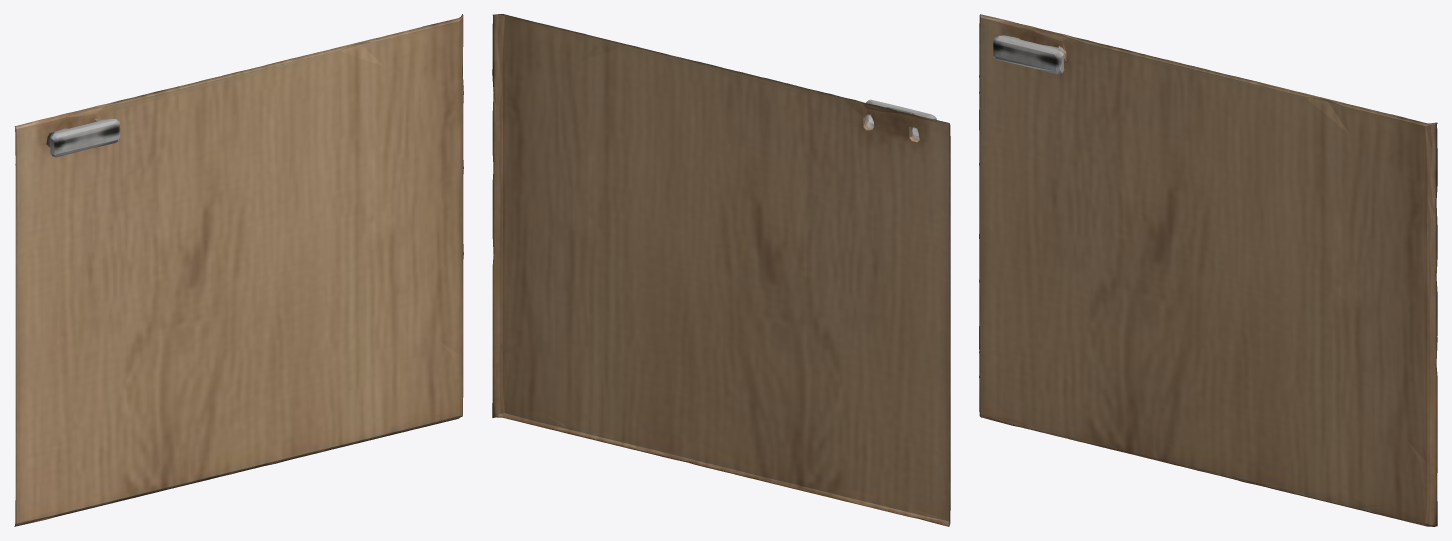
Rendered from door_right.glb.
The picture shows the model from 3 angles, left to right: view 1: azimuth 30°, elevation 25°; view 2: azimuth 150°, elevation 25°; view 3: azimuth 330°, elevation 25°; orthographic projection.
Parts seen in each view (by area): view 1: source_surface_0; view 2: source_surface_0; view 3: source_surface_0.
Boxes of the visible parts, x1,y1,x2,y2 form: source_surface_0: (14, 14, 463, 526); source_surface_0: (492, 14, 950, 526); source_surface_0: (979, 14, 1437, 526).
Bounding box in the file's own units: 0.7446 × 0.6321 × 0.0491.
Materials: 1 (1 with a texture image).
